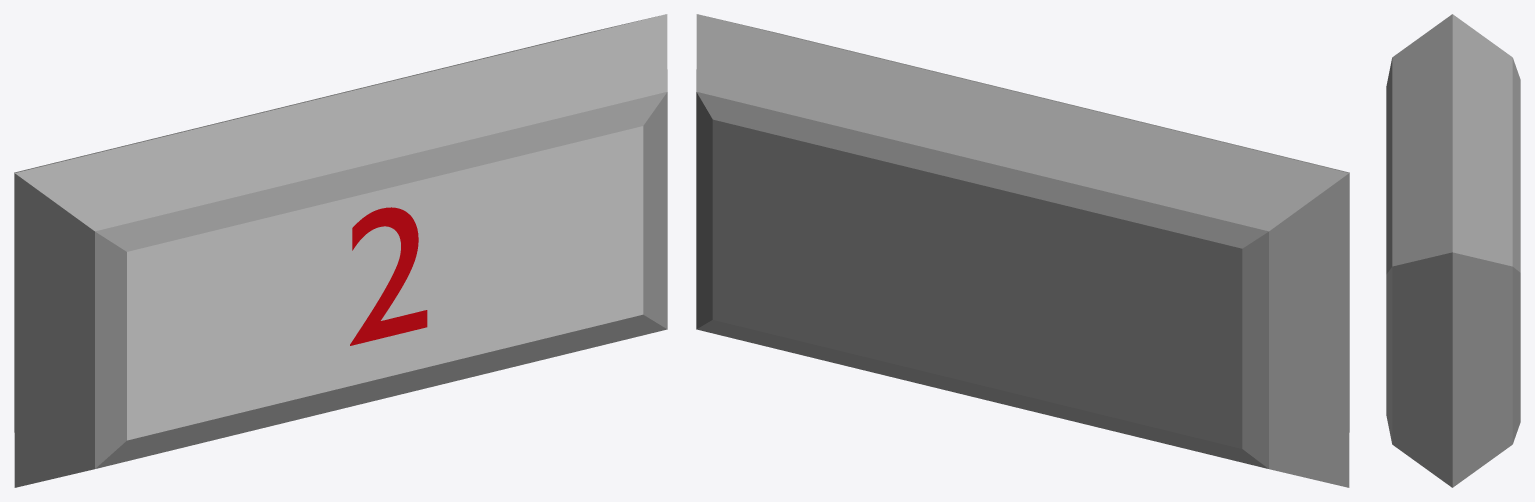
The model's file is number2.fbx.
The picture shows the model from 3 angles, left to right: view 1: azimuth 30°, elevation 25°; view 2: azimuth 150°, elevation 25°; view 3: azimuth 270°, elevation 25°; orthographic projection. The views are drawn at different scales.
Parts seen in each view (by area): view 1: Cube, Text; view 2: Cube; view 3: Cube.
Part boxes in pixels (x1,y1,x2,y2): Cube: [14, 14, 667, 487]; Text: [350, 207, 427, 345]; Cube: [696, 14, 1349, 487]; Cube: [1386, 14, 1520, 487].
Bounding box in the file's own units: 1735 × 800 × 437.
